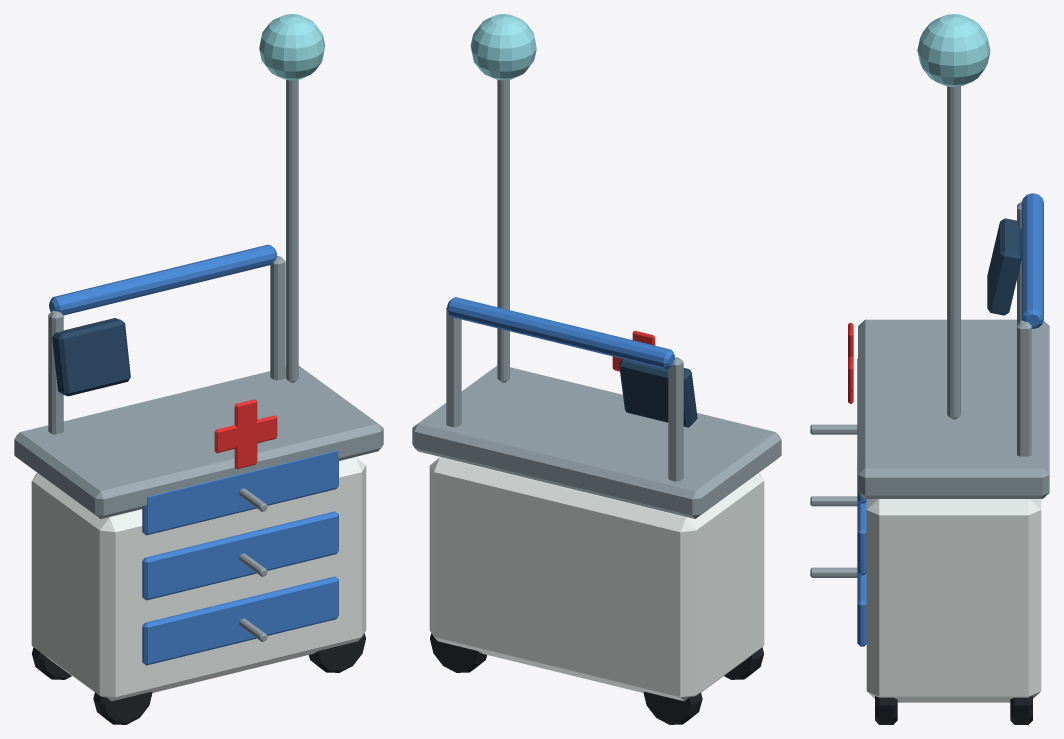
File: medical-trolley.glb
3 renders of one model, left to right at view 1: azimuth 30°, elevation 25°; view 2: azimuth 150°, elevation 25°; view 3: azimuth 270°, elevation 25°, orthographic. The views are drawn at different scales.
Parts seen in each view (by area): view 1: LP_MEDICAL_TROLLEY_CHASSIS, LP_MEDICAL_TROLLEY_TOP, LP_MEDICAL_TROLLEY_DRAWER_1, LP_MEDICAL_TROLLEY_DRAWER_2, LP_MEDICAL_TROLLEY_DRAWER_3, LP_MEDICAL_TROLLEY_MONITOR, LP_MEDICAL_TROLLEY_BACK_HANDLE, LP_MEDICAL_TROLLEY_IV_POLE, LP_MEDICAL_TROLLEY_IV_BAG, LP_MEDICAL_TROLLEY_RAIL_+0.50, LP_MEDICAL_TROLLEY_CROSS_VERTICAL, LP_MEDICAL_TROLLEY_RAIL_-0.50 (+4 smaller); view 2: LP_MEDICAL_TROLLEY_CHASSIS, LP_MEDICAL_TROLLEY_TOP, LP_MEDICAL_TROLLEY_BACK_HANDLE, LP_MEDICAL_TROLLEY_IV_POLE, LP_MEDICAL_TROLLEY_IV_BAG, LP_MEDICAL_TROLLEY_MONITOR, LP_MEDICAL_TROLLEY_RAIL_-0.50, LP_MEDICAL_TROLLEY_RAIL_+0.50, LP_MEDICAL_TROLLEY_WHEEL_-0.48_+0.24, LP_MEDICAL_TROLLEY_WHEEL_+0.48_+0.24, LP_MEDICAL_TROLLEY_WHEEL_-0.48_-0.24; view 3: LP_MEDICAL_TROLLEY_CHASSIS, LP_MEDICAL_TROLLEY_TOP, LP_MEDICAL_TROLLEY_IV_POLE, LP_MEDICAL_TROLLEY_IV_BAG, LP_MEDICAL_TROLLEY_BACK_HANDLE, LP_MEDICAL_TROLLEY_MONITOR, LP_MEDICAL_TROLLEY_RAIL_+0.50, LP_MEDICAL_TROLLEY_DRAWER_2, LP_MEDICAL_TROLLEY_DRAWER_1, LP_MEDICAL_TROLLEY_WHEEL_+0.48_-0.24, LP_MEDICAL_TROLLEY_WHEEL_+0.48_+0.24, LP_MEDICAL_TROLLEY_DRAWER_PULL_1 (+2 smaller).
Part boxes in pixels (x1=…): LP_MEDICAL_TROLLEY_CHASSIS: x1=31, y1=457, x2=366, y2=701; LP_MEDICAL_TROLLEY_TOP: x1=14, y1=365, x2=383, y2=518; LP_MEDICAL_TROLLEY_DRAWER_1: x1=142, y1=576, x2=338, y2=665; LP_MEDICAL_TROLLEY_DRAWER_2: x1=142, y1=511, x2=338, y2=600; LP_MEDICAL_TROLLEY_DRAWER_3: x1=142, y1=450, x2=338, y2=535; LP_MEDICAL_TROLLEY_MONITOR: x1=52, y1=318, x2=130, y2=396; LP_MEDICAL_TROLLEY_BACK_HANDLE: x1=49, y1=244, x2=277, y2=315; LP_MEDICAL_TROLLEY_IV_POLE: x1=286, y1=80, x2=298, y2=382; LP_MEDICAL_TROLLEY_IV_BAG: x1=259, y1=14, x2=325, y2=80; LP_MEDICAL_TROLLEY_RAIL_+0.50: x1=270, y1=256, x2=285, y2=380; LP_MEDICAL_TROLLEY_CROSS_VERTICAL: x1=234, y1=399, x2=257, y2=468; LP_MEDICAL_TROLLEY_RAIL_-0.50: x1=48, y1=310, x2=63, y2=434; LP_MEDICAL_TROLLEY_CHASSIS: x1=429, y1=457, x2=764, y2=701; LP_MEDICAL_TROLLEY_TOP: x1=412, y1=365, x2=781, y2=518; LP_MEDICAL_TROLLEY_BACK_HANDLE: x1=447, y1=297, x2=675, y2=369; LP_MEDICAL_TROLLEY_IV_POLE: x1=497, y1=80, x2=509, y2=382; LP_MEDICAL_TROLLEY_IV_BAG: x1=470, y1=14, x2=536, y2=80; LP_MEDICAL_TROLLEY_MONITOR: x1=619, y1=359, x2=697, y2=427; LP_MEDICAL_TROLLEY_RAIL_-0.50: x1=668, y1=357, x2=683, y2=481; LP_MEDICAL_TROLLEY_RAIL_+0.50: x1=446, y1=307, x2=461, y2=427; LP_MEDICAL_TROLLEY_WHEEL_-0.48_+0.24: x1=643, y1=692, x2=702, y2=724; LP_MEDICAL_TROLLEY_WHEEL_+0.48_+0.24: x1=430, y1=633, x2=486, y2=672; LP_MEDICAL_TROLLEY_WHEEL_-0.48_-0.24: x1=724, y1=647, x2=763, y2=679; LP_MEDICAL_TROLLEY_CHASSIS: x1=866, y1=499, x2=1041, y2=702; LP_MEDICAL_TROLLEY_TOP: x1=858, y1=319, x2=1049, y2=498; LP_MEDICAL_TROLLEY_IV_POLE: x1=947, y1=86, x2=960, y2=419; LP_MEDICAL_TROLLEY_IV_BAG: x1=917, y1=14, x2=990, y2=87; LP_MEDICAL_TROLLEY_BACK_HANDLE: x1=1021, y1=193, x2=1043, y2=328; LP_MEDICAL_TROLLEY_MONITOR: x1=987, y1=218, x2=1021, y2=315; LP_MEDICAL_TROLLEY_RAIL_+0.50: x1=1017, y1=320, x2=1031, y2=456; LP_MEDICAL_TROLLEY_DRAWER_2: x1=857, y1=501, x2=866, y2=575; LP_MEDICAL_TROLLEY_DRAWER_1: x1=857, y1=572, x2=866, y2=646; LP_MEDICAL_TROLLEY_WHEEL_+0.48_-0.24: x1=875, y1=696, x2=897, y2=724; LP_MEDICAL_TROLLEY_WHEEL_+0.48_+0.24: x1=1010, y1=696, x2=1032, y2=724; LP_MEDICAL_TROLLEY_DRAWER_PULL_1: x1=810, y1=567, x2=857, y2=577.
Size of the model in its own units: 1.3 by 2.73 by 0.85.
